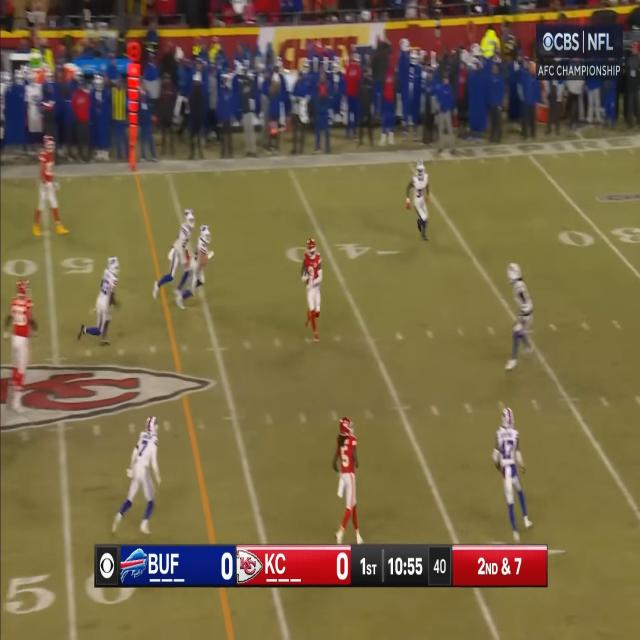Ball: (303, 269, 311, 285)
